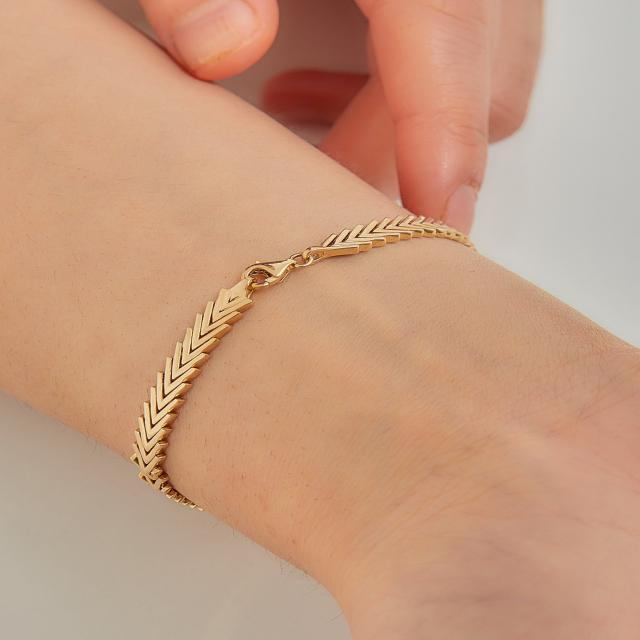Nail: (168, 0, 265, 69), (443, 185, 481, 235)
